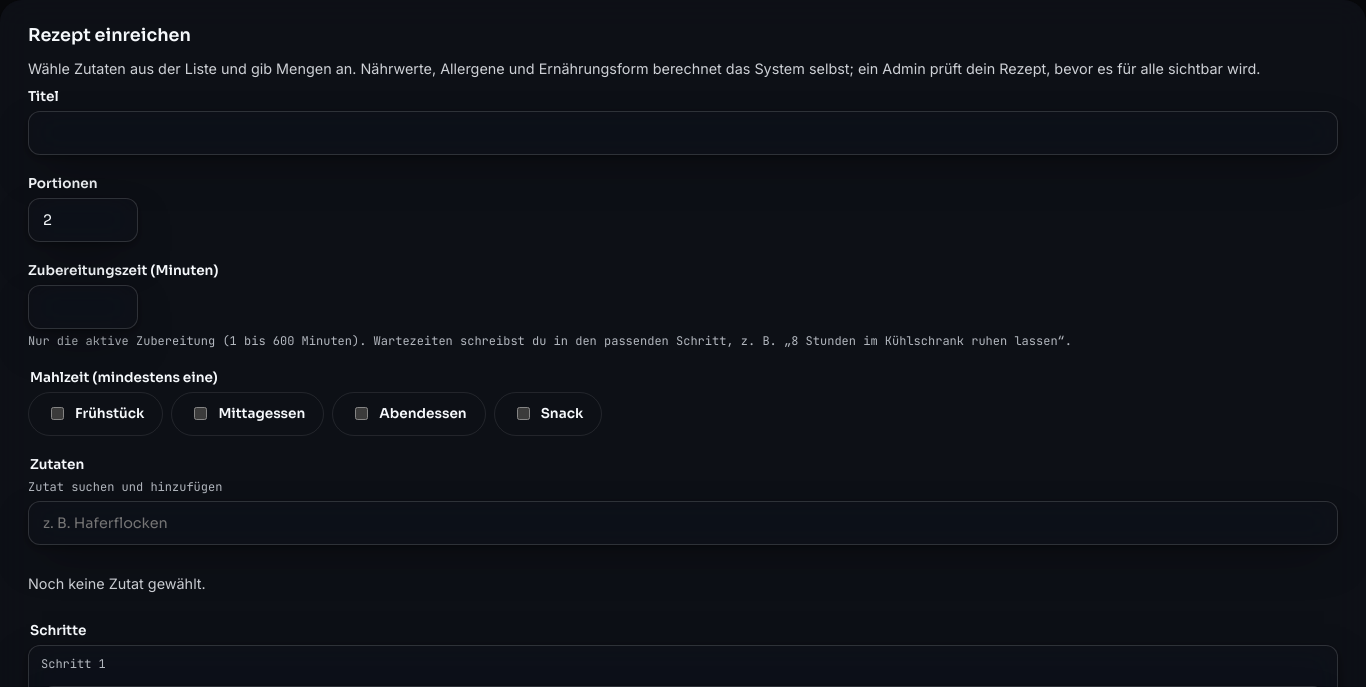
Test: RecipeSubmissionForm › wählt per Tastatur (Pfeil + Enter) und sendet dabei nicht das Formular
Type "hafer" into the dropdown at (683, 523), box [28,501,1338,545]
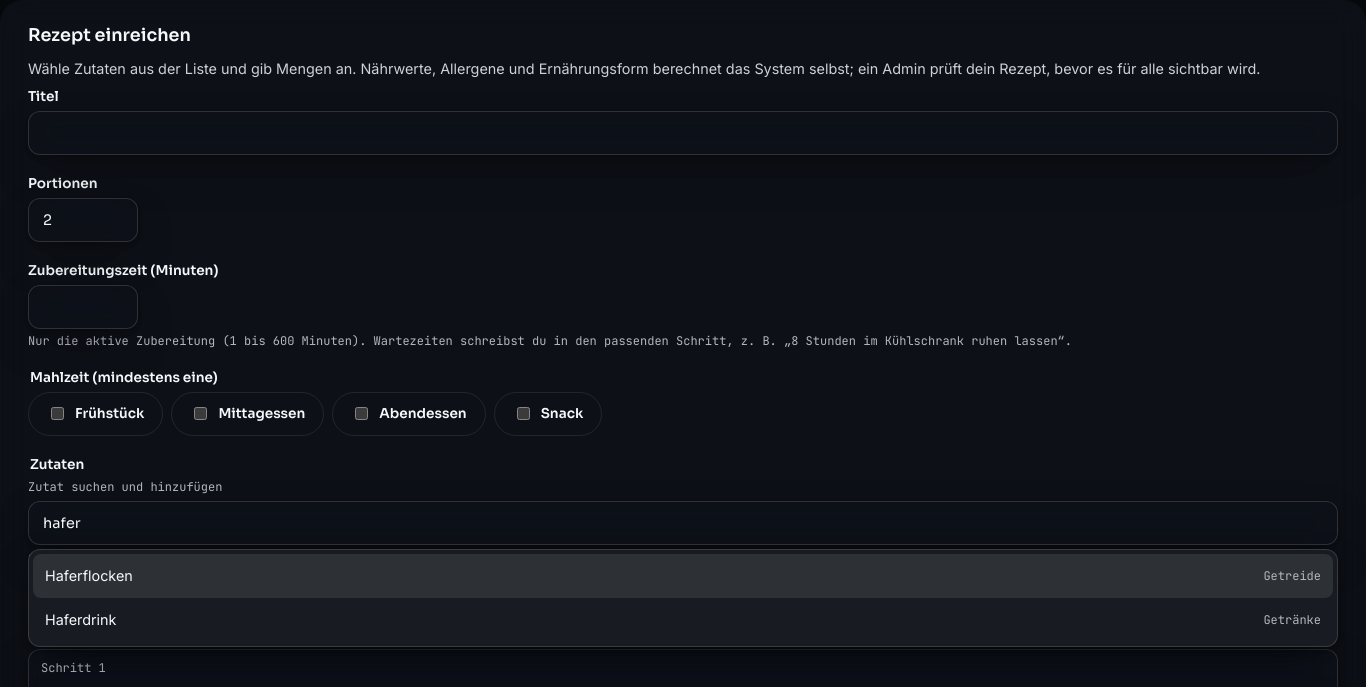
Expected: the option "Haferdrink Getränke" is shown, [45,611,1321,628]
Press ArrowDown in the dropdown, box [28,501,1338,545]
Press Enter in the dropdown, box [28,501,1338,545]
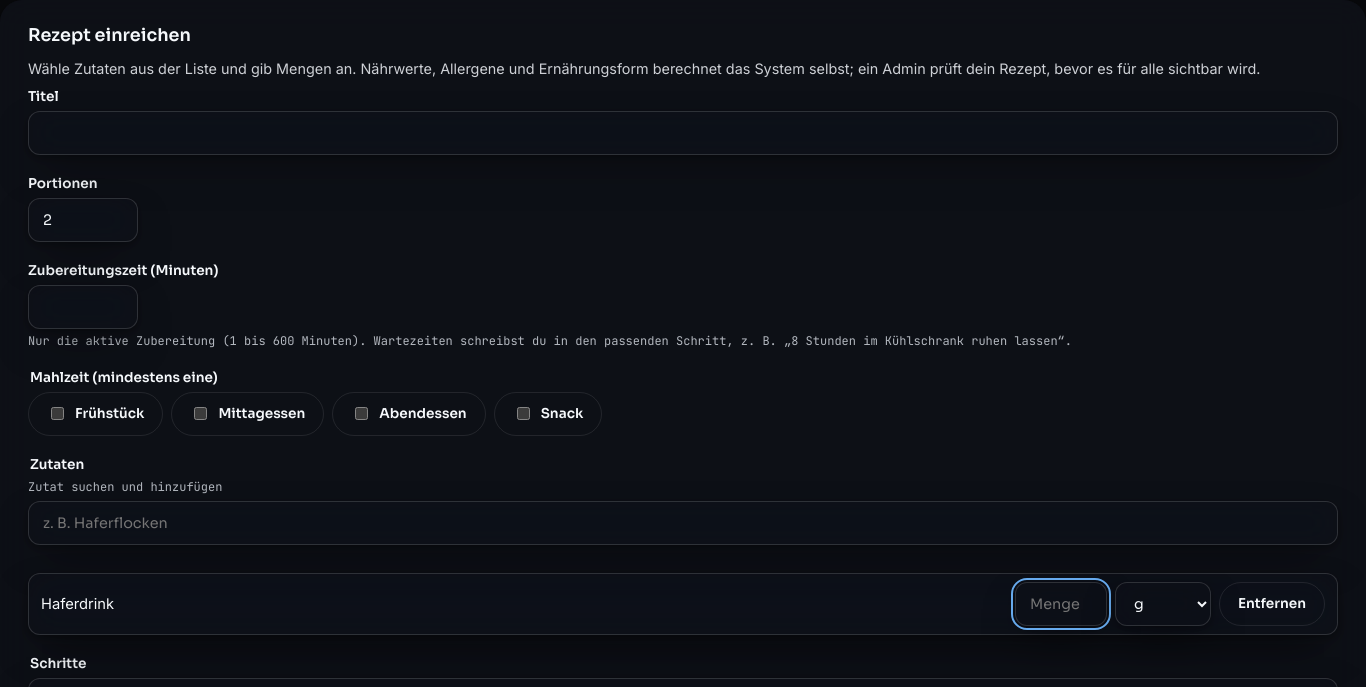
Expected: the field named "Menge Haferdrink" is shown, [1015,582,1107,626]
